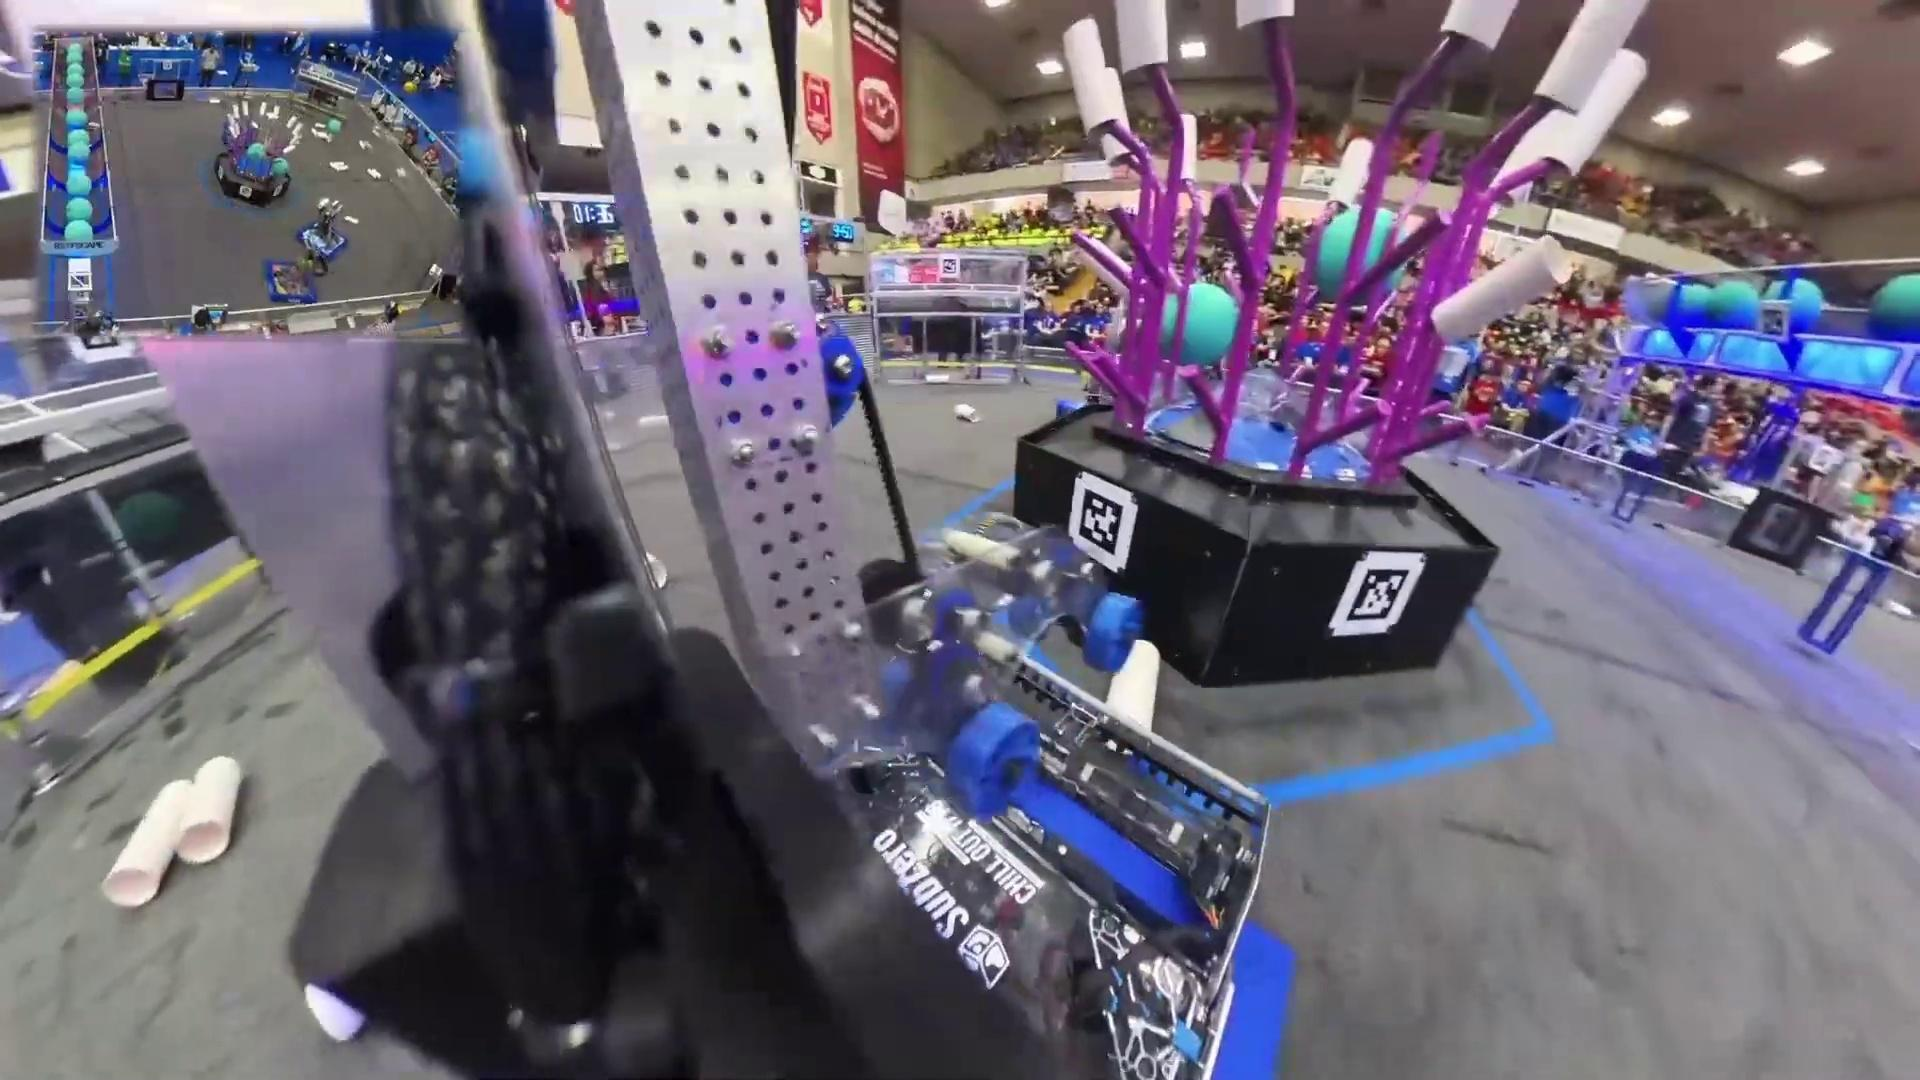robot: (262, 252, 320, 309), (298, 195, 352, 256)
